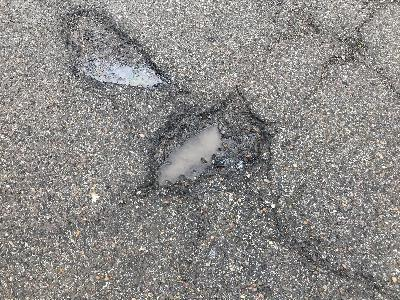Pothole: (136, 108, 282, 188), (66, 2, 169, 99)
